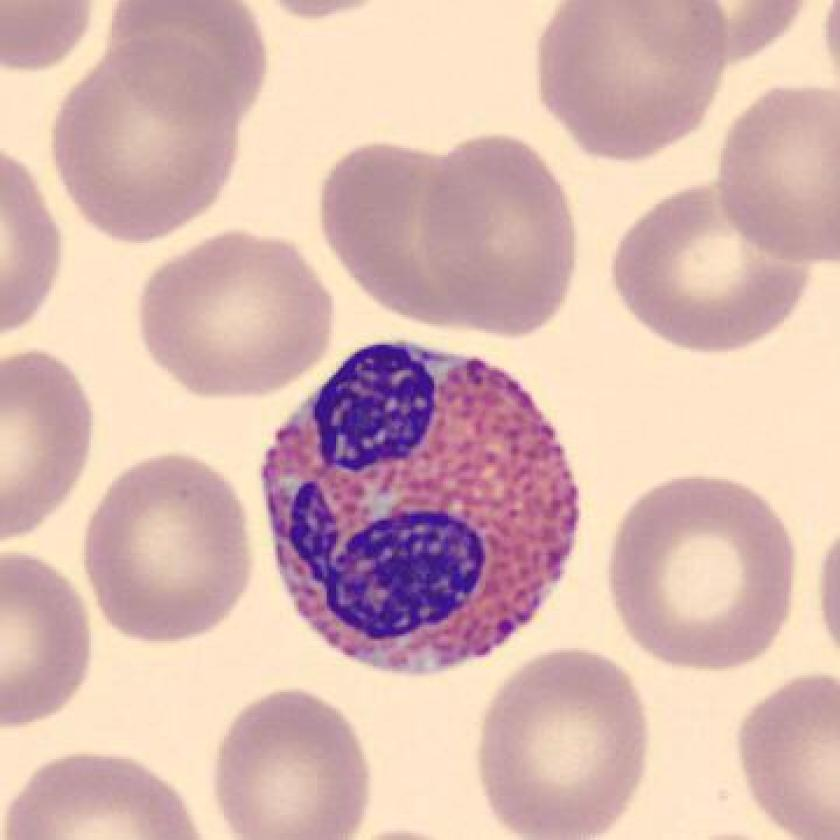eosinophil: (256, 323, 592, 691)
